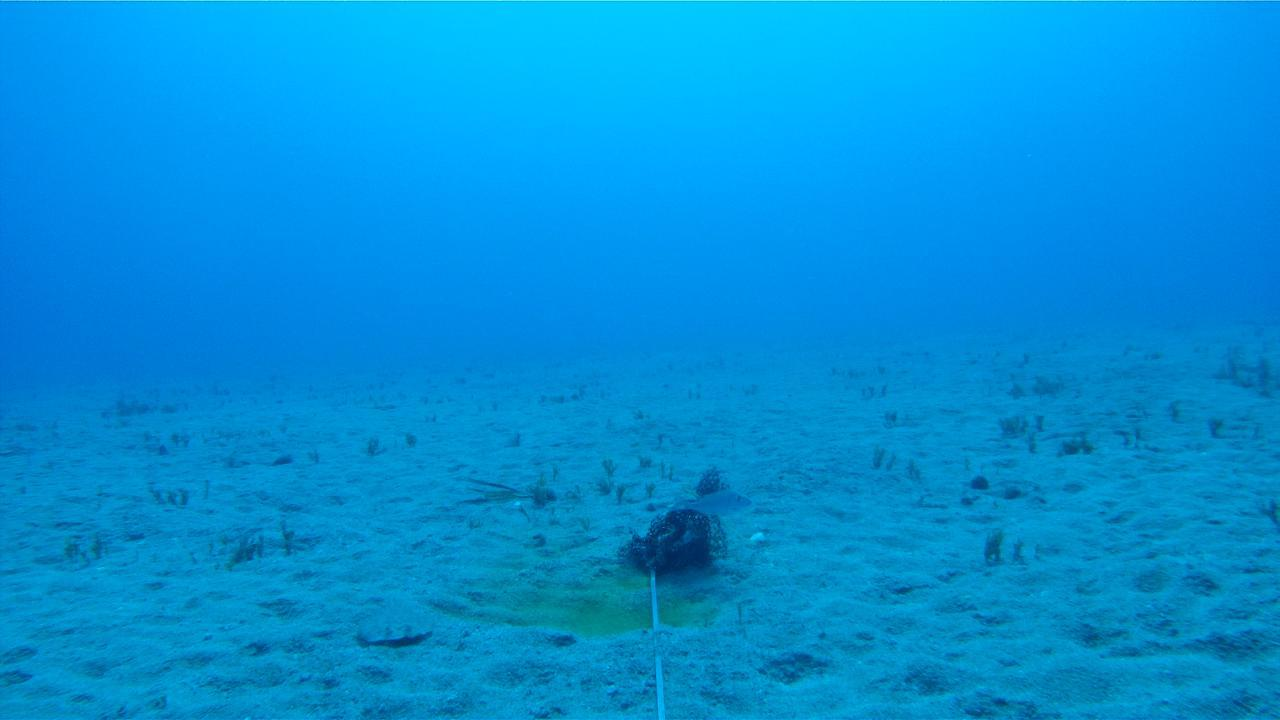bothus: (356, 607, 429, 645)
pagellus: (667, 493, 753, 519)
